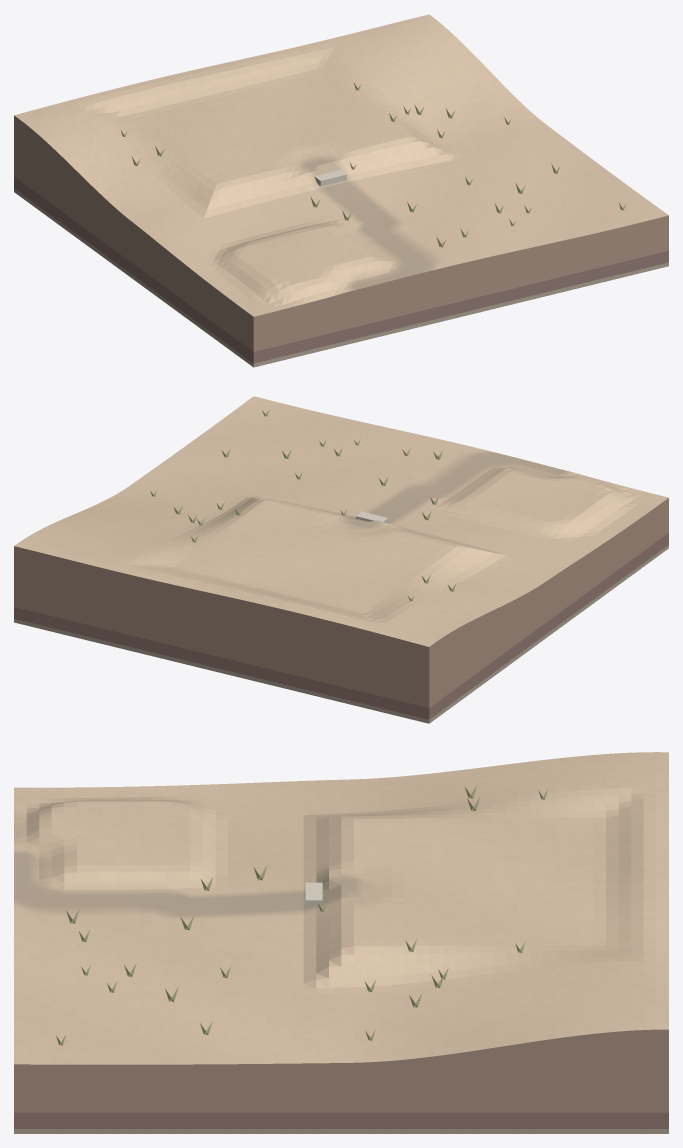
The model's file is J891_proc.glb.
The picture shows the model from 3 angles, top to bottom: view 1: azimuth 30°, elevation 25°; view 2: azimuth 150°, elevation 25°; view 3: azimuth 270°, elevation 25°; orthographic projection. The views are drawn at different scales.
Parts seen in each view (by area): view 1: proc_ground, proc_skirt, proc_grass; view 2: proc_ground, proc_skirt, proc_grass; view 3: proc_ground, proc_skirt, proc_grass.
Part boxes in pixels (x1=…): proc_ground: x1=14, y1=14, x2=668, y2=316; proc_skirt: x1=14, y1=115, x2=668, y2=367; proc_grass: x1=121, y1=83, x2=625, y2=247; proc_ground: x1=14, y1=396, x2=668, y2=646; proc_skirt: x1=14, y1=498, x2=668, y2=723; proc_grass: x1=150, y1=409, x2=456, y2=601; proc_ground: x1=14, y1=752, x2=668, y2=1064; proc_skirt: x1=14, y1=1029, x2=668, y2=1133; proc_grass: x1=56, y1=785, x2=547, y2=1045.
Bounding box in the file's own units: 8 × 1.48 × 8.
